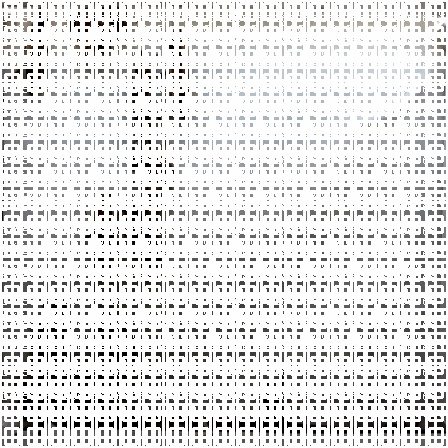bee: (64, 184, 125, 289), (115, 198, 186, 282), (160, 11, 205, 136), (16, 276, 79, 360), (11, 5, 62, 108), (116, 43, 162, 150), (114, 137, 184, 204), (56, 2, 119, 73), (82, 295, 143, 368)
